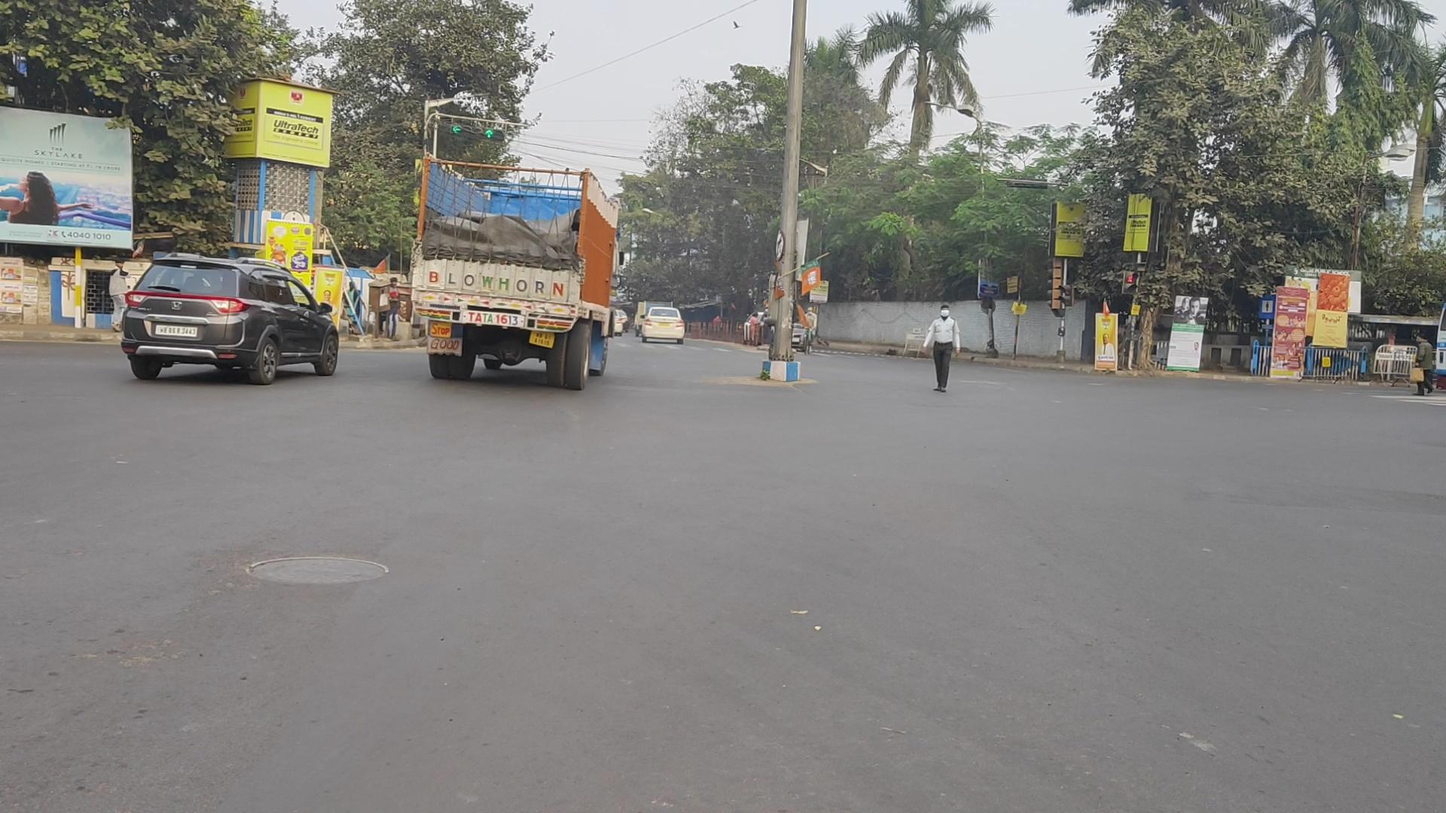car: (122, 253, 340, 385), (641, 306, 685, 345)
truck: (412, 152, 621, 390)
